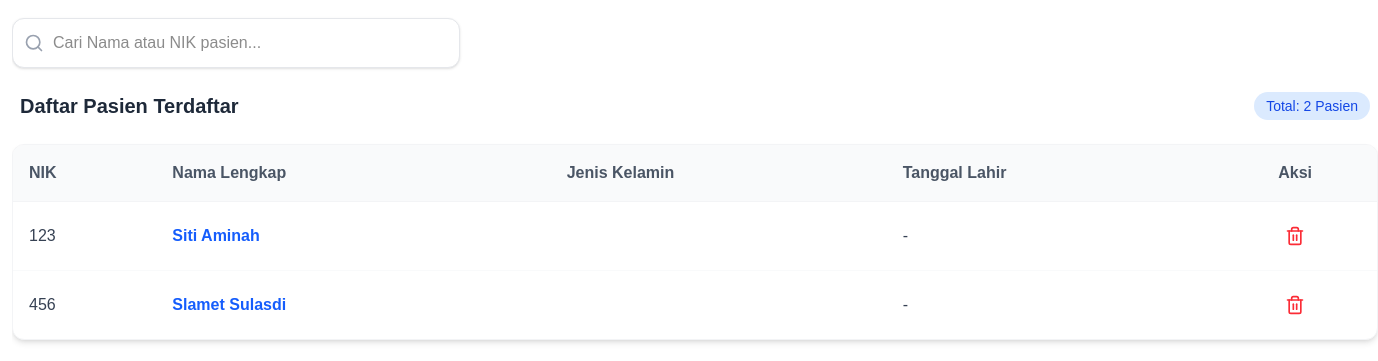
Test: PatientTable Search Flow › harus menyaring daftar nama saat admin mengetik kata kunci
Check: the link "Siti Aminah" is shown, box [172,227,260,244]
Check: the link "Slamet Sulasdi" is shown, box [172,296,286,313]
# Simulasi mengetik kata kunci pencarian
In the field with placeholder "Cari Nama atau NIK pasien...": (236, 43) [12,18,460,68], type "Siti"
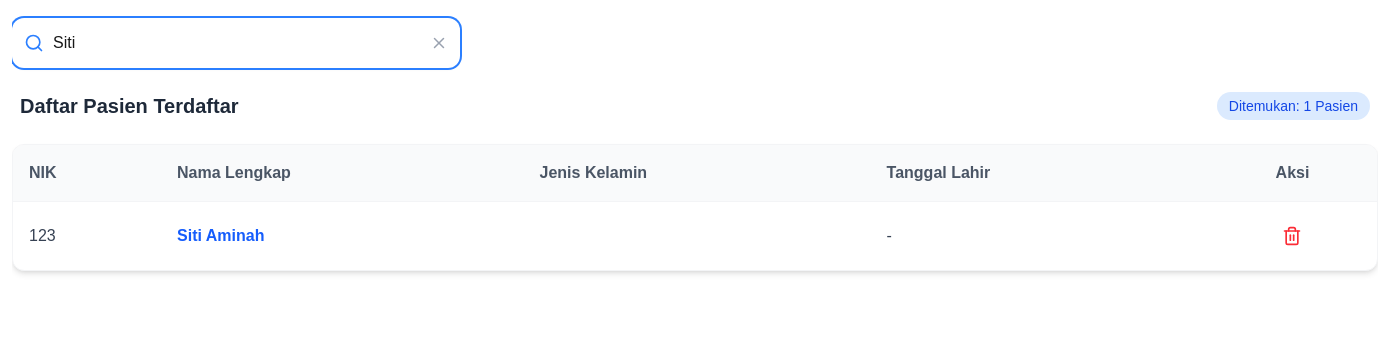
Check: the link "Siti Aminah" is shown, box [177,227,264,244]
Check: the link "Slamet Sulasdi" is gone
